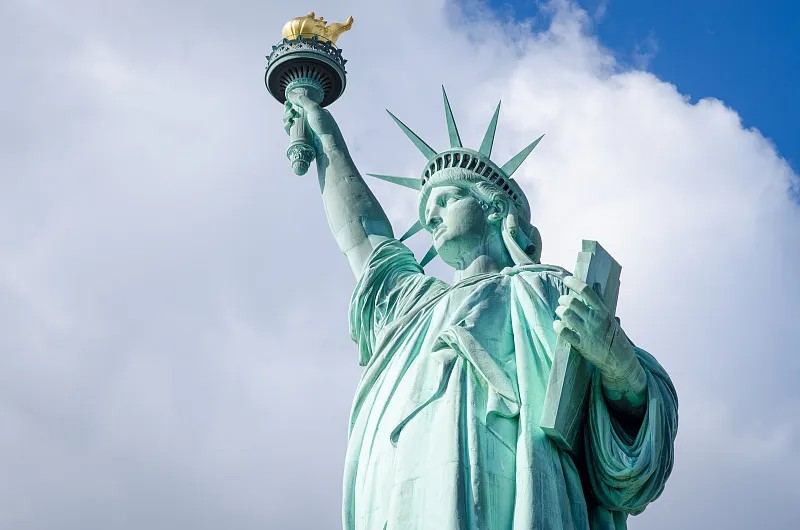SL: (265, 11, 680, 530)
